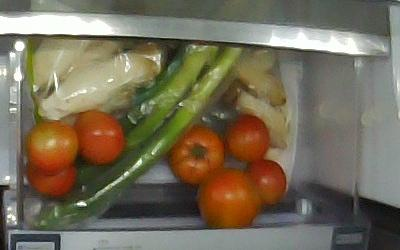tomato: (196, 164, 259, 229), (170, 125, 225, 187), (27, 119, 80, 172), (72, 111, 124, 165), (222, 114, 270, 164), (245, 160, 286, 206), (23, 162, 77, 196)
